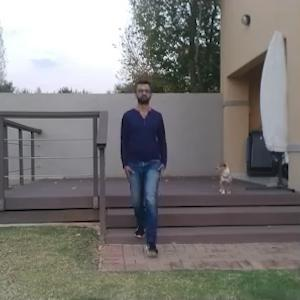follow: (119, 79, 160, 242)
